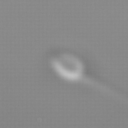normal: (79, 73, 128, 112)
